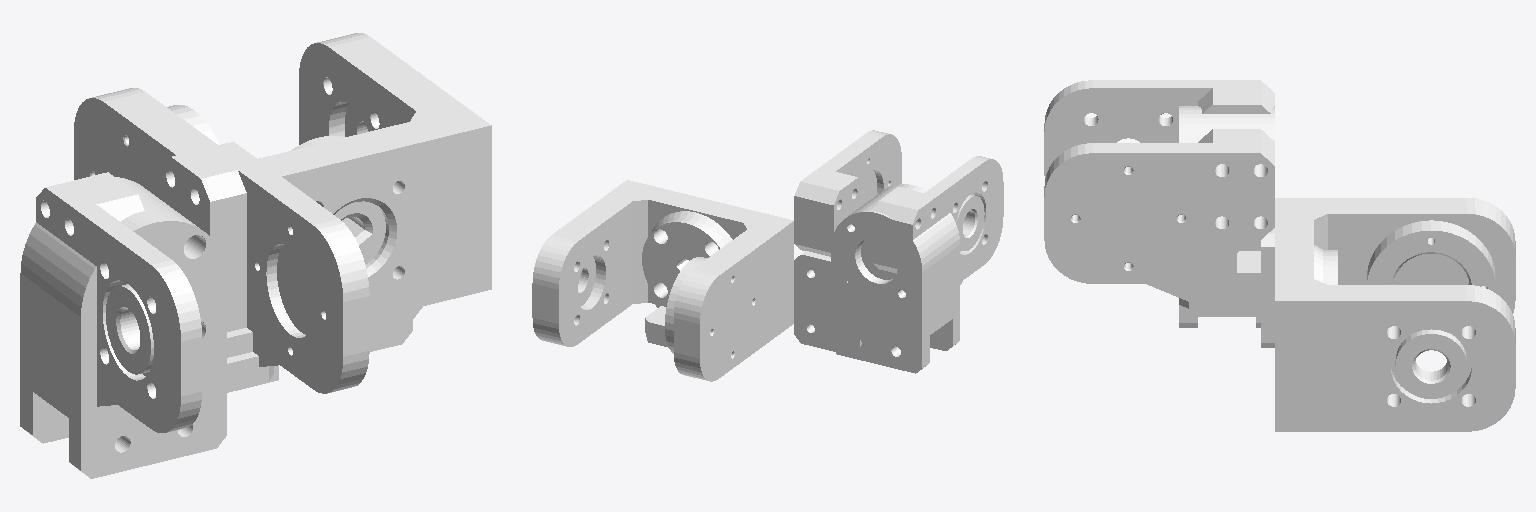
robot.urdf — rm_65_description:
<?xml version="1.0" encoding="utf-8"?>
<robot
  name="rm_65_description">
  <link
    name="base_link">
    <inertial>
      <origin
        xyz="-0.000433277303987328 -3.54664423471128E-05 0.0599427668933796"
        rpy="0 0 0" />
      <mass
        value="0.841070778135659" />
      <inertia
        ixx="0.0017261110801622"
        ixy="2.52746264980217E-06"
        ixz="-3.67690303614961E-05"
        iyy="0.00170987405835604"
        iyz="1.67996364994424E-06"
        izz="0.000904023422915791" />
    </inertial>
    <visual>
      <origin
        xyz="0 0 0"
        rpy="0 0 0" />
      <geometry>
        <mesh
          filename="package://rm_description/meshes/rm_65_arm/base_link.STL" />
      </geometry>
      <material
        name="">
        <color
          rgba="1 1 1 1" />
      </material>
    </visual>
    <collision>
      <origin
        xyz="0 0 0"
        rpy="0 0 0" />
      <geometry>
        <mesh
          filename="package://rm_description/meshes/rm_65_arm/base_link.STL" />
      </geometry>
    </collision>
  </link>
  <link
    name="Link1">
    <inertial>
      <origin
        xyz="1.2226305431569E-08 0.0211079974844683 -0.0251854220842269"
        rpy="0 0 0" />
      <mass
        value="0.593563443690403" />
      <inertia
        ixx="0.00126614120341847"
        ixy="-1.294980943835E-08"
        ixz="-9.80120923066996E-09"
        iyy="0.00118168178300364"
        iyz="-0.00021121727444415"
        izz="0.00056135241627747" />
    </inertial>
    <visual>
      <origin
        xyz="0 0 0"
        rpy="0 0 0" />
      <geometry>
        <mesh
          filename="package://rm_description/meshes/rm_65_arm/link1.STL" />
      </geometry>
      <material
        name="">
        <color
          rgba="1 1 1 1" />
      </material>
    </visual>
    <collision>
      <origin
        xyz="0 0 0"
        rpy="0 0 0" />
      <geometry>
        <mesh
          filename="package://rm_description/meshes/rm_65_arm/link1.STL" />
      </geometry>
    </collision>
  </link>
  <joint
    name="joint1"
    type="revolute">
    <origin
      xyz="0 0 0.2405"
      rpy="0 0 0" />
    <parent
      link="base_link" />
    <child
      link="Link1" />
    <axis
      xyz="0 0 1" />
    <limit
      lower="-3.1"
      upper="3.1"
      effort="60"
      velocity="3.14" />
  </joint>
  <link
    name="Link2">
    <inertial>
      <origin
        xyz="0.152256463426163 4.75383656106654E-07 -0.00620260383607792"
        rpy="0 0 0" />
      <mass
        value="0.864175046869043" />
      <inertia
        ixx="0.00089150298478414"
        ixy="-2.23268489334765E-08"
        ixz="0.00156246461035015"
        iyy="0.00733754343083901"
        iyz="6.28110889329165E-09"
        izz="0.00697869103915473" />
    </inertial>
    <visual>
      <origin
        xyz="0 0 0"
        rpy="0 0 0" />
      <geometry>
        <mesh
          filename="package://rm_description/meshes/rm_65_arm/link2.STL" />
      </geometry>
      <material
        name="">
        <color
          rgba="1 1 1 1" />
      </material>
    </visual>
    <collision>
      <origin
        xyz="0 0 0"
        rpy="0 0 0" />
      <geometry>
        <mesh
          filename="package://rm_description/meshes/rm_65_arm/link2.STL" />
      </geometry>
    </collision>
  </link>
  <joint
    name="joint2"
    type="revolute">
    <origin
      xyz="0 0 0"
      rpy="1.5708 -1.5708 0" />
    <parent
      link="Link1" />
    <child
      link="Link2" />
    <axis
      xyz="0 0 1" />
    <limit
      lower="-2.268"
      upper="2.268"
      effort="60"
      velocity="3.14" />
  </joint>
  <link
    name="Link3">
    <inertial>
      <origin
        xyz="5.05312670989961E-06 -0.0595925663694732 0.010569069212336"
        rpy="0 0 0" />
      <mass
        value="0.289633681624654" />
      <inertia
        ixx="0.00063737100450158"
        ixy="-7.05261293649751E-08"
        ixz="-3.86643272239426E-08"
        iyy="0.00015648388095025"
        iyz="-0.00014461035994916"
        izz="0.000614178164773085" />
    </inertial>
    <visual>
      <origin
        xyz="0 0 0"
        rpy="0 0 0" />
      <geometry>
        <mesh
          filename="package://rm_description/meshes/rm_65_arm/link3.STL" />
      </geometry>
      <material
        name="">
        <color
          rgba="1 1 1 1" />
      </material>
    </visual>
    <collision>
      <origin
        xyz="0 0 0"
        rpy="0 0 0" />
      <geometry>
        <mesh
          filename="package://rm_description/meshes/rm_65_arm/link3.STL" />
      </geometry>
    </collision>
  </link>
  <joint
    name="joint3"
    type="revolute">
    <origin
      xyz="0.256 0 0"
      rpy="0 0 1.5708" />
    <parent
      link="Link2" />
    <child
      link="Link3" />
    <axis
      xyz="0 0 1" />
    <limit
      lower="-2.355"
      upper="2.355"
      effort="30"
      velocity="3.92" />
  </joint>
  <link
    name="Link4">
    <inertial>
      <origin
        xyz="1.15516617405898E-06 -0.0180424468598241 -0.0215394748352687"
        rpy="0 0 0" />
      <mass
        value="0.239419768320061" />
      <inertia
        ixx="0.000285938919722783"
        ixy="3.07101359163101E-09"
        ixz="-2.21994118981953E-09"
        iyy="0.000262727540304212"
        iyz="4.4236583260078E-05"
        izz="0.000119888082791859" />
    </inertial>
    <visual>
      <origin
        xyz="0 0 0"
        rpy="0 0 0" />
      <geometry>
        <mesh
          filename="package://rm_description/meshes/rm_65_arm/link4.STL" />
      </geometry>
      <material
        name="">
        <color
          rgba="1 1 1 1" />
      </material>
    </visual>
    <collision>
      <origin
        xyz="0 0 0"
        rpy="0 0 0" />
      <geometry>
        <mesh
          filename="package://rm_description/meshes/rm_65_arm/link4.STL" />
      </geometry>
    </collision>
  </link>
  <joint
    name="joint4"
    type="revolute">
    <origin
      xyz="0 -0.21 0"
      rpy="1.5708 0 0" />
    <parent
      link="Link3" />
    <child
      link="Link4" />
    <axis
      xyz="0 0 1" />
    <limit
      lower="-3.1"
      upper="3.1"
      effort="10"
      velocity="3.92" />
  </joint>
  <link
    name="Link5">
    <inertial>
      <origin
        xyz="3.19794786262152E-06 -0.0593808368101458 0.00736804250989326"
        rpy="0 0 0" />
      <mass
        value="0.218799761431678" />
      <inertia
        ixx="0.000350540363914072"
        ixy="-3.41781619975602E-08"
        ixz="-1.77056457224373E-08"
        iyy="0.000104927867487581"
        iyz="-7.82431228461971E-05"
        izz="0.000334482418423629" />
    </inertial>
    <visual>
      <origin
        xyz="0 0 0"
        rpy="0 0 0" />
      <geometry>
        <mesh
          filename="package://rm_description/meshes/rm_65_arm/link5.STL" />
      </geometry>
      <material
        name="">
        <color
          rgba="1 1 1 1" />
      </material>
    </visual>
    <collision>
      <origin
        xyz="0 0 0"
        rpy="0 0 0" />
      <geometry>
        <mesh
          filename="package://rm_description/meshes/rm_65_arm/link5.STL" />
      </geometry>
    </collision>
  </link>
  <joint
    name="joint5"
    type="revolute">
    <origin
      xyz="0 0 0"
      rpy="-1.5708 0 0" />
    <parent
      link="Link4" />
    <child
      link="Link5" />
    <axis
      xyz="0 0 1" />
    <limit
      lower="-2.233"
      upper="2.233"
      effort="10"
      velocity="3.92" />
  </joint>
  <link
    name="Link6">
    <inertial>
      <origin
        xyz="0.000714234511756999 -0.000396718732824521 -0.0126723660946126"
        rpy="0 0 0" />
      <mass
        value="0.0649018034311231" />
      <inertia
        ixx="2.02766547502765E-05"
        ixy="-1.32505200276849E-06"
        ixz="-2.5845091522508E-08"
        iyy="1.87986725225022E-05"
        iyz="3.39471452125439E-09"
        izz="3.17885459163081E-05" />
    </inertial>
    <visual>
      <origin
        xyz="0 0 0"
        rpy="0 0 0" />
      <geometry>
        <mesh
          filename="package://rm_description/meshes/rm_65_arm/link6.STL" />
      </geometry>
      <material
        name="">
        <color
          rgba="1 1 1 1" />
      </material>
    </visual>
    <collision>
      <origin
        xyz="0 0 0"
        rpy="0 0 0" />
      <geometry>
        <mesh
          filename="package://rm_description/meshes/rm_65_arm/link6.STL" />
      </geometry>
    </collision>
  </link>
  <joint
    name="joint6"
    type="revolute">
    <origin
      xyz="0 -0.144 0"
      rpy="1.5708 0 0" />
    <parent
      link="Link5" />
    <child
      link="Link6" />
    <axis
      xyz="0 0 1" />
    <limit
      lower="-6.28"
      upper="6.28"
      effort="10"
      velocity="3.92" />
  </joint>
</robot>

--- Render facts (derived) ---
3 views of the same robot in one strip: view 1: azimuth 30°, elevation 25°; view 2: azimuth 150°, elevation 25°; view 3: azimuth 270°, elevation 25° (orthographic).
Robot: rm_65_description — 7 links, 6 joints (6 revolute); root link base_link; default pose: every joint at zero.
Links seen in each view (by area): view 1: Link4, Link1, Link2, Link6; view 2: Link1, Link4, Link2, Link6; view 3: Link1, Link4, Link2, Link6.
Boxes of the visible links, x1,y1,x2,y2 form: Link4: (36, 142, 369, 432); Link1: (74, 33, 491, 351); Link2: (20, 177, 273, 478); Link6: (227, 328, 278, 392); Link1: (532, 180, 793, 381); Link4: (794, 130, 1003, 284); Link2: (831, 184, 959, 373); Link6: (794, 251, 861, 355); Link1: (1275, 198, 1515, 431); Link4: (1044, 80, 1274, 301); Link2: (1179, 106, 1274, 327); Link6: (1189, 228, 1274, 347).
Bounding box of the posed robot: 90 × 98 × 46.17 m (x, y, z).
Meshes: 7 distinct files referenced, 4 mesh visuals loaded (4 binary STL); not drawn: 3 (reference not matched to a file when rendering).
